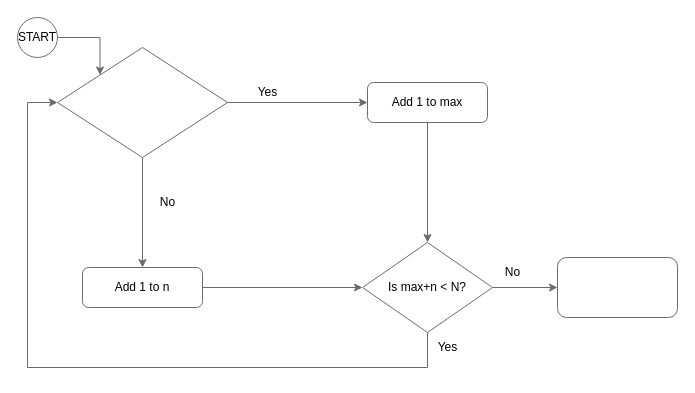
Some shapes in this 695 by 393 pixel diagram are drawn without their labels. The centre of each missing label's shape, as x and y in pixels:
"Is j[n]+...+J[max+n] less than or equal to K?" belongs at (x=142, y=102).
"Print max" belongs at (x=617, y=287).
